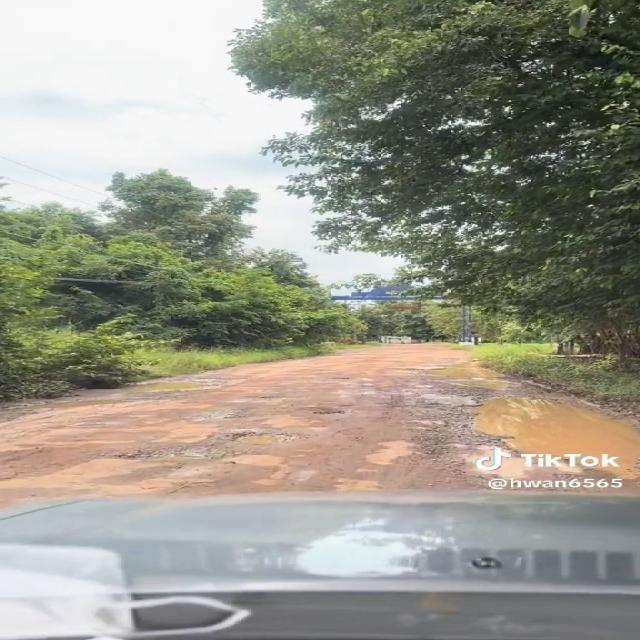Poth-hole: (12, 449, 110, 486)
